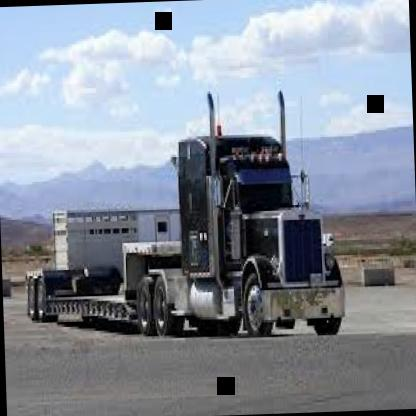car: (6, 75, 372, 370)
